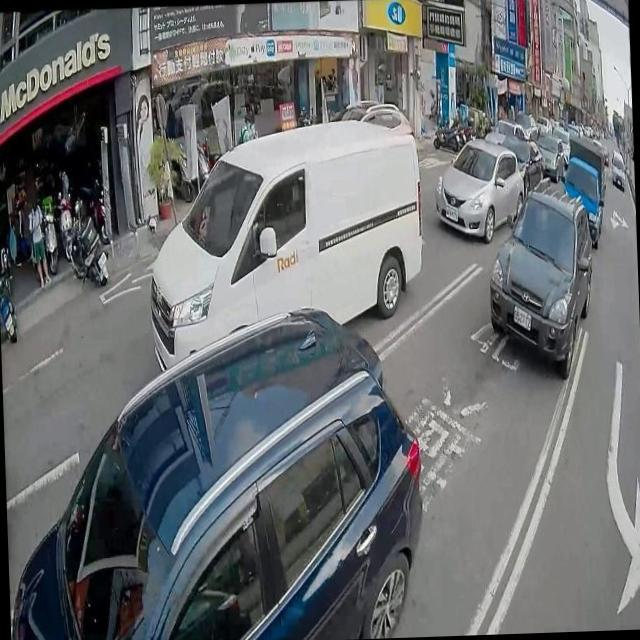person: (23, 203, 46, 301), (5, 192, 28, 272), (231, 118, 246, 146)
